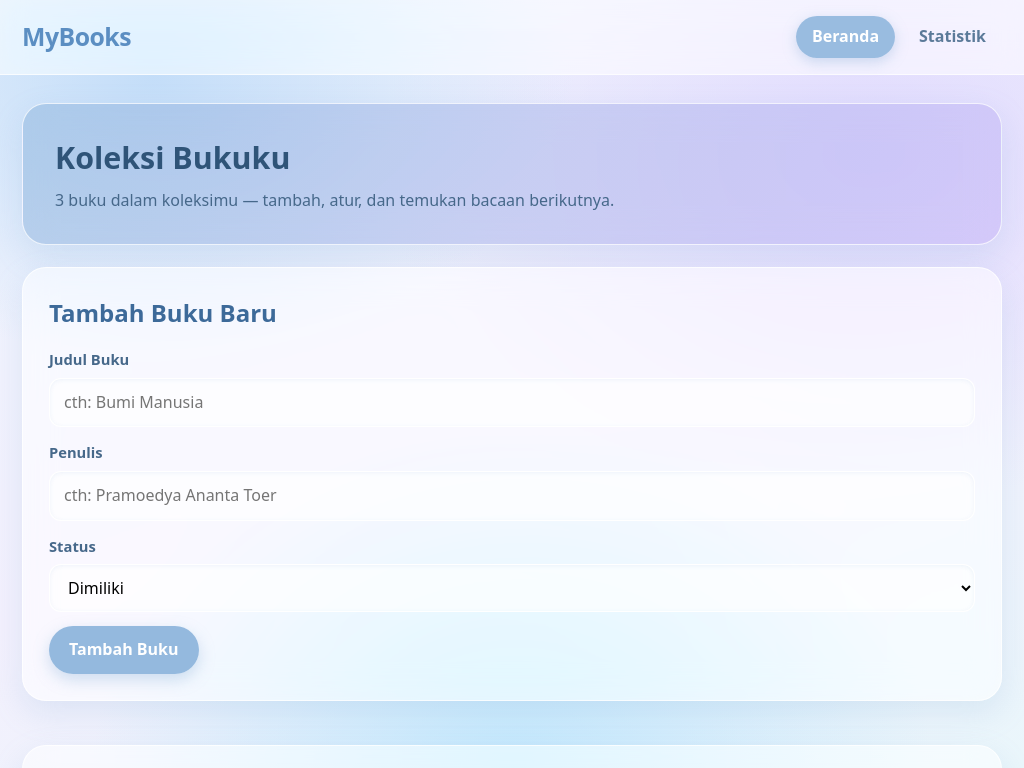
it: App (integrasi) › menambah buku lewat form lalu menemukannya lewat pencarian
Type "Dune" into the field labelled "Judul Buku" at (512,403), box [49, 378, 975, 427]
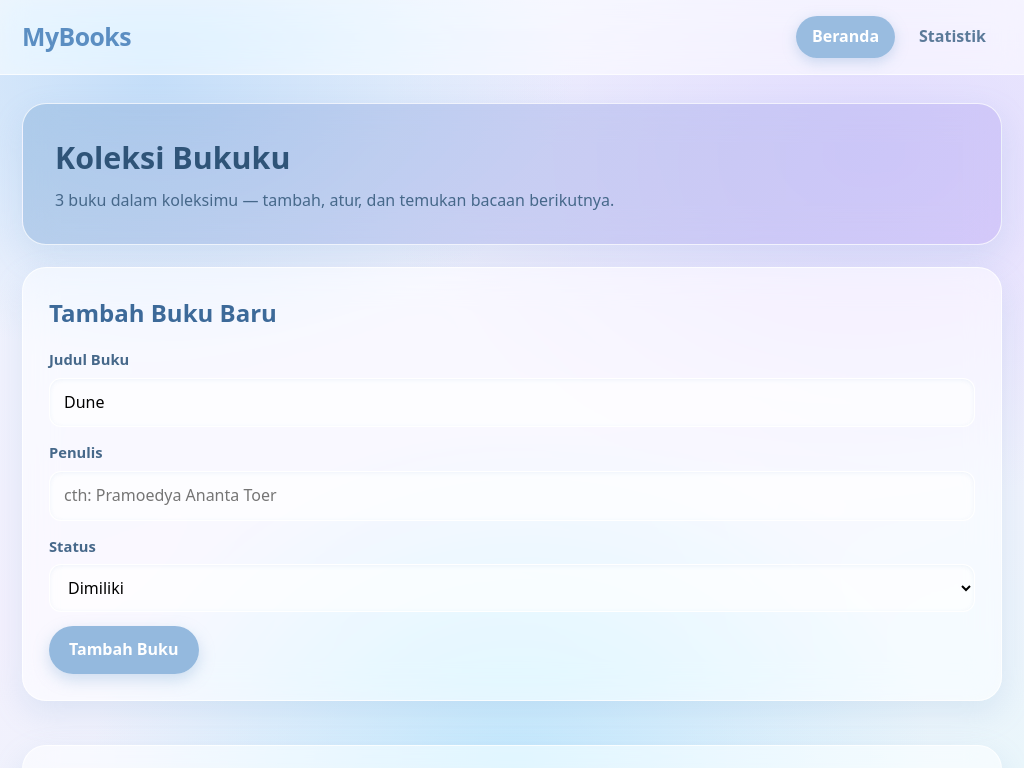
Type "Frank Herbert" into the field labelled "Penulis" at (512,496), box [49, 471, 975, 520]
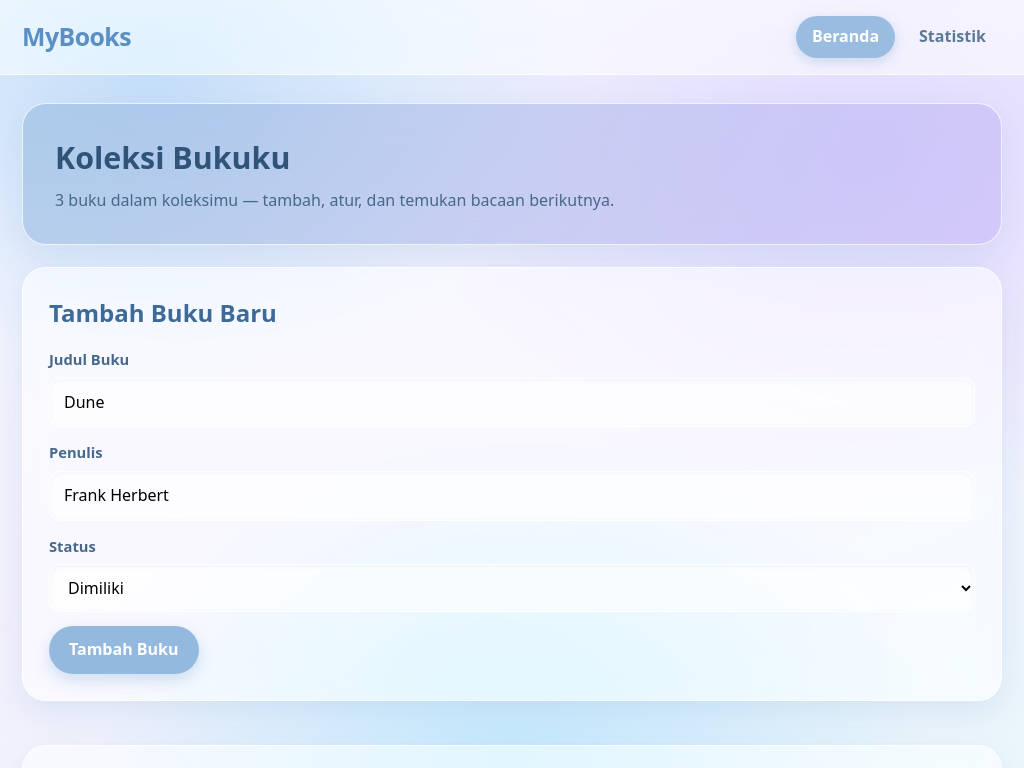
Click the button "Tambah Buku" at (124,650), box [49, 626, 198, 674]
(page scrolled)
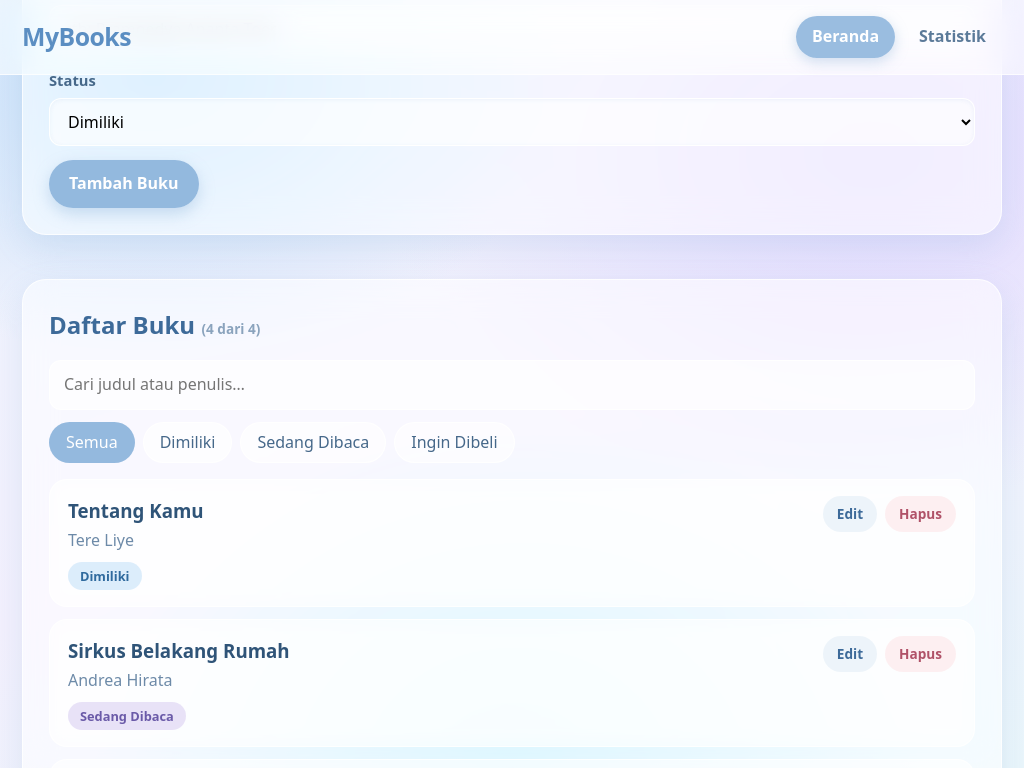
Type "zzzz" into the search field named "Cari buku" at (512,385), box [49, 360, 975, 410]
(page scrolled)
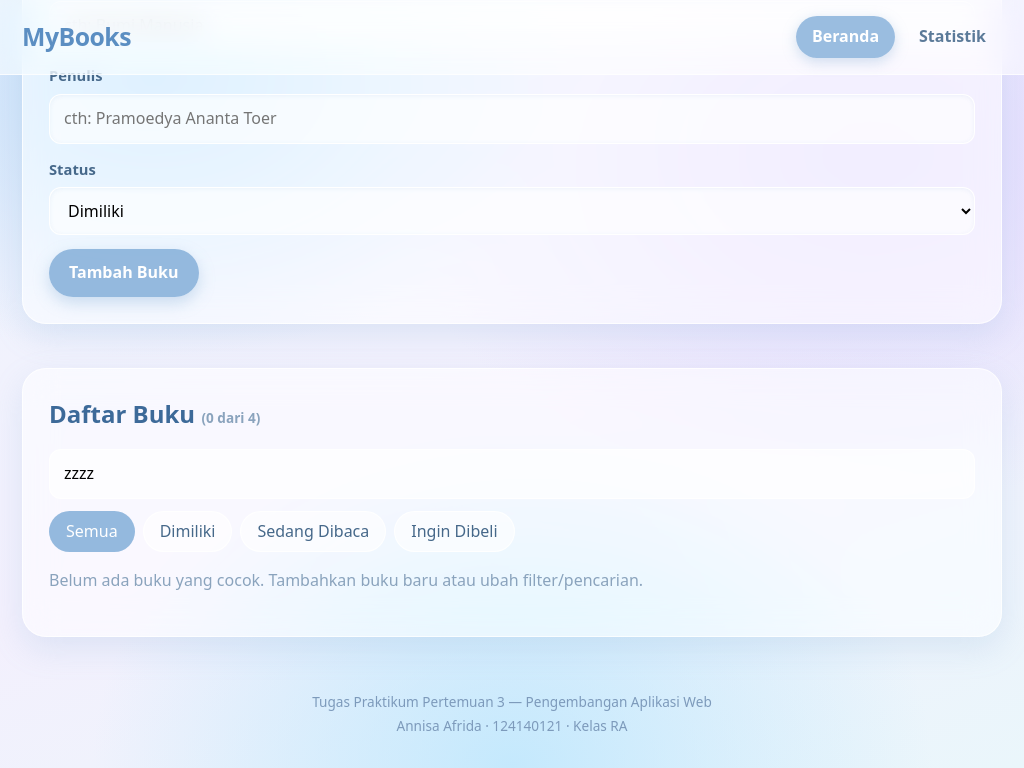
Clear the search field named "Cari buku" at (512,474), box [49, 449, 975, 499]
(page scrolled)
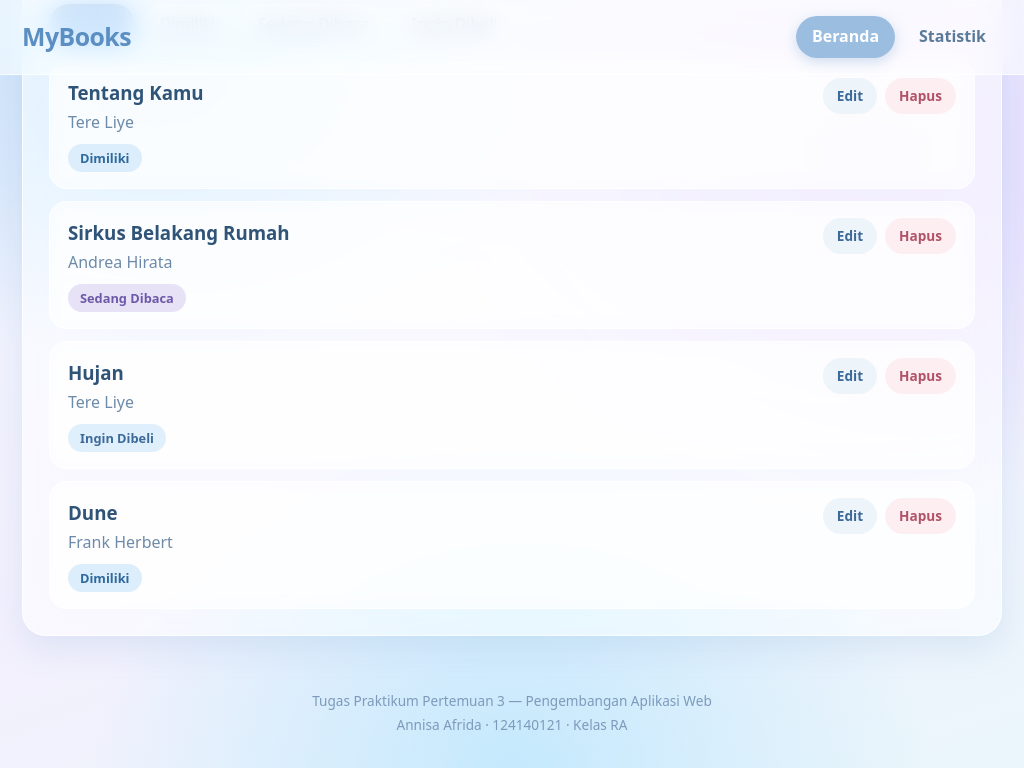
Check: the heading "Dune" is shown, box [68, 500, 118, 525]
